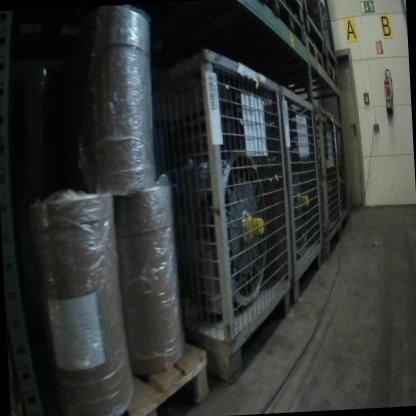pallet: (99, 334, 213, 416), (271, 59, 344, 97), (270, 33, 324, 72), (267, 0, 307, 52)
stillage: (139, 36, 299, 387), (171, 74, 325, 318), (280, 98, 344, 270), (333, 117, 355, 236), (319, 0, 341, 62), (305, 0, 323, 46), (285, 0, 303, 21)
